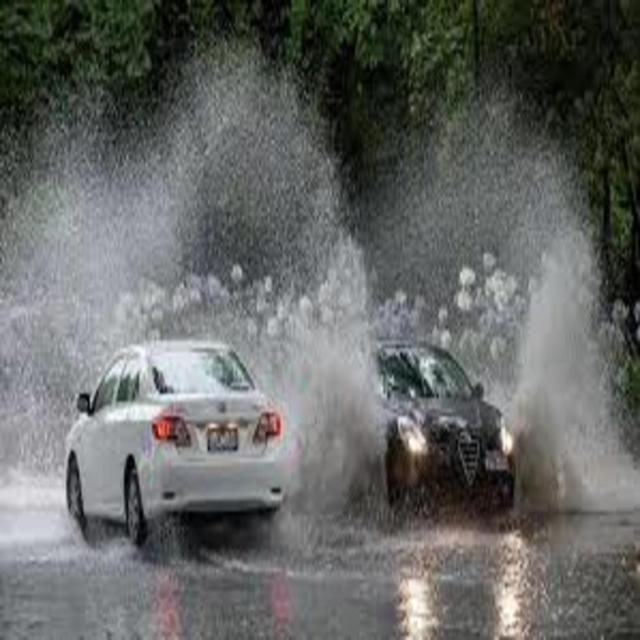car: (63, 336, 296, 552), (368, 338, 518, 513)
